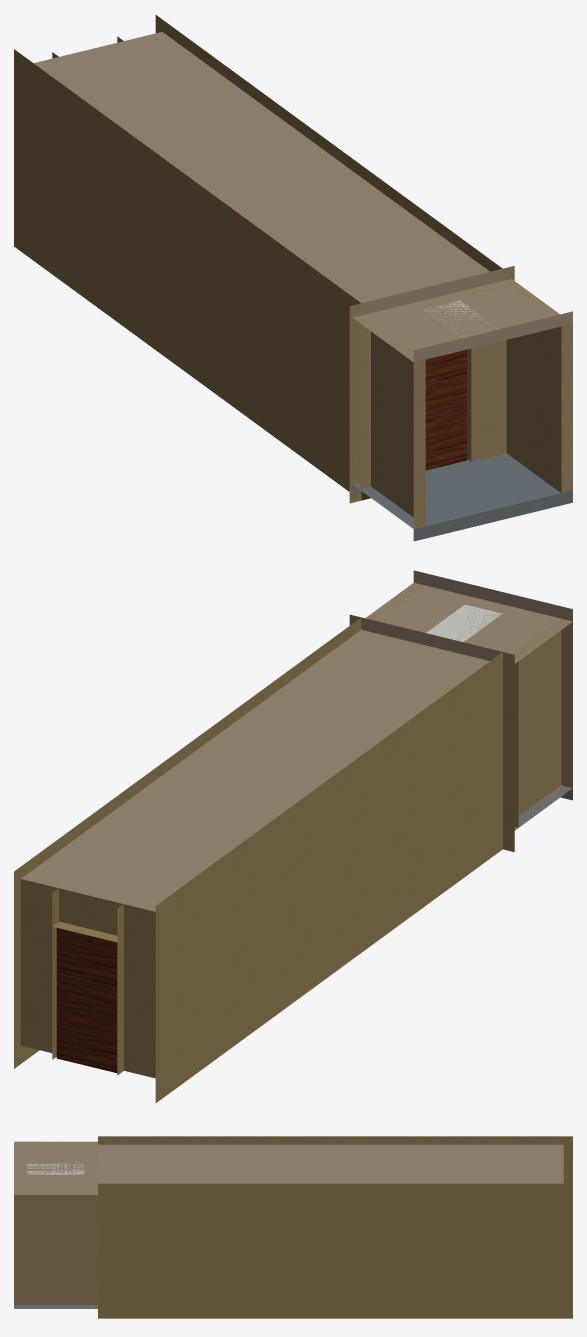
File: stair_door.glb
3 views of the same model, one above another, from view 1: azimuth 30°, elevation 25°; view 2: azimuth 150°, elevation 25°; view 3: azimuth 270°, elevation 25° (orthographic). The views are drawn at different scales.
Visible parts, largest first — view 1: stair_door_hallway_Hall_Wall, stair_door_hallway_Hall_Ceiling, stair_door_landing_Stair_Wall, stair_door_landing_Stair_Ceiling, stair_door_landing_Stair_Floor, Leaf_stair_Stair_Door; view 2: stair_door_hallway_Hall_Wall, stair_door_hallway_Hall_Ceiling, stair_door_landing_Stair_Wall, stair_door_landing_Stair_Ceiling, Leaf_hall_far_Stair_Door, stair_door_landing_Fixture_Housing, stair_door_landing_Stair_Floor; view 3: stair_door_hallway_Hall_Wall, stair_door_hallway_Hall_Ceiling, stair_door_landing_Stair_Wall, stair_door_landing_Stair_Ceiling, stair_door_landing_Fixture_Housing, stair_door_landing_Stair_Floor.
Part boxes in pixels (bbox=[...]): stair_door_hallway_Hall_Wall: bbox=[14, 15, 514, 503]; stair_door_hallway_Hall_Ceiling: bbox=[34, 32, 502, 315]; stair_door_landing_Stair_Wall: bbox=[352, 279, 572, 528]; stair_door_landing_Stair_Ceiling: bbox=[352, 267, 572, 362]; stair_door_landing_Stair_Floor: bbox=[352, 453, 572, 541]; Leaf_stair_Stair_Door: bbox=[425, 349, 466, 470]; stair_door_hallway_Hall_Wall: bbox=[14, 614, 514, 1102]; stair_door_hallway_Hall_Ceiling: bbox=[21, 617, 502, 911]; stair_door_landing_Stair_Wall: bbox=[366, 583, 572, 831]; stair_door_landing_Stair_Ceiling: bbox=[352, 570, 572, 663]; Leaf_hall_far_Stair_Door: bbox=[56, 928, 117, 1072]; stair_door_landing_Fixture_Housing: bbox=[426, 604, 501, 642]; stair_door_landing_Stair_Floor: bbox=[507, 785, 572, 836]; stair_door_hallway_Hall_Wall: bbox=[98, 1136, 572, 1318]; stair_door_hallway_Hall_Ceiling: bbox=[98, 1144, 563, 1183]; stair_door_landing_Stair_Wall: bbox=[14, 1141, 97, 1308]; stair_door_landing_Stair_Ceiling: bbox=[14, 1141, 97, 1194]; stair_door_landing_Fixture_Housing: bbox=[27, 1162, 84, 1174]; stair_door_landing_Stair_Floor: bbox=[14, 1305, 97, 1308].
Bounding box in the file's own units: 2.8 × 3.2 × 12.
10 materials, 7 textured.
